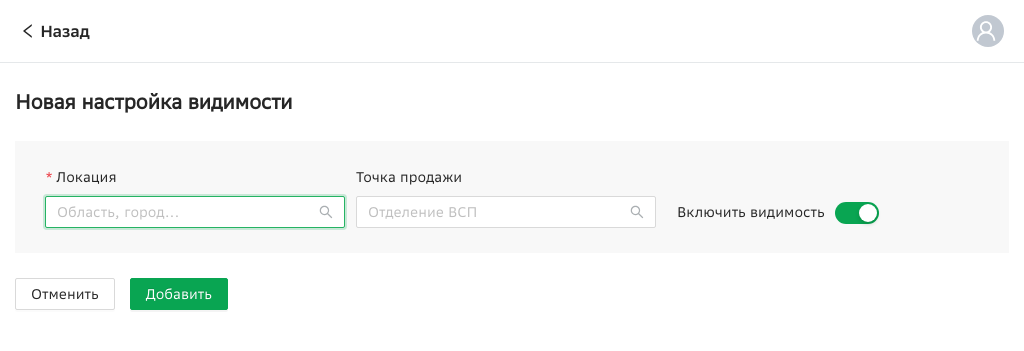
Scenario: <PromoCampaignVisibilitySettingForm /> tests › should show location error
Click the button "Добавить" at (179,294), box [130,278,228,310]
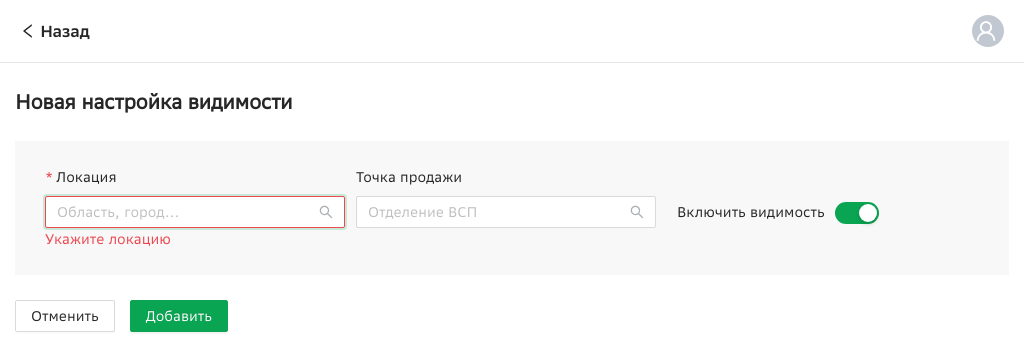
expect the text "Укажите локацию" is shown: met, box [45,230,171,248]
